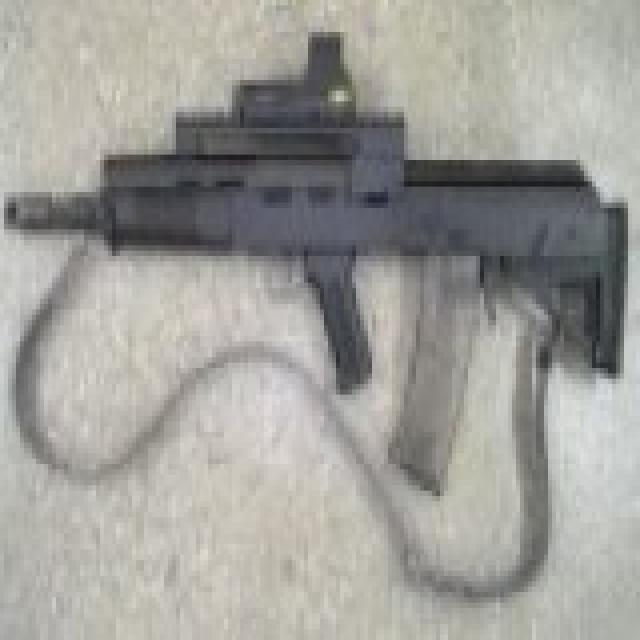Gun: (5, 30, 633, 505)
